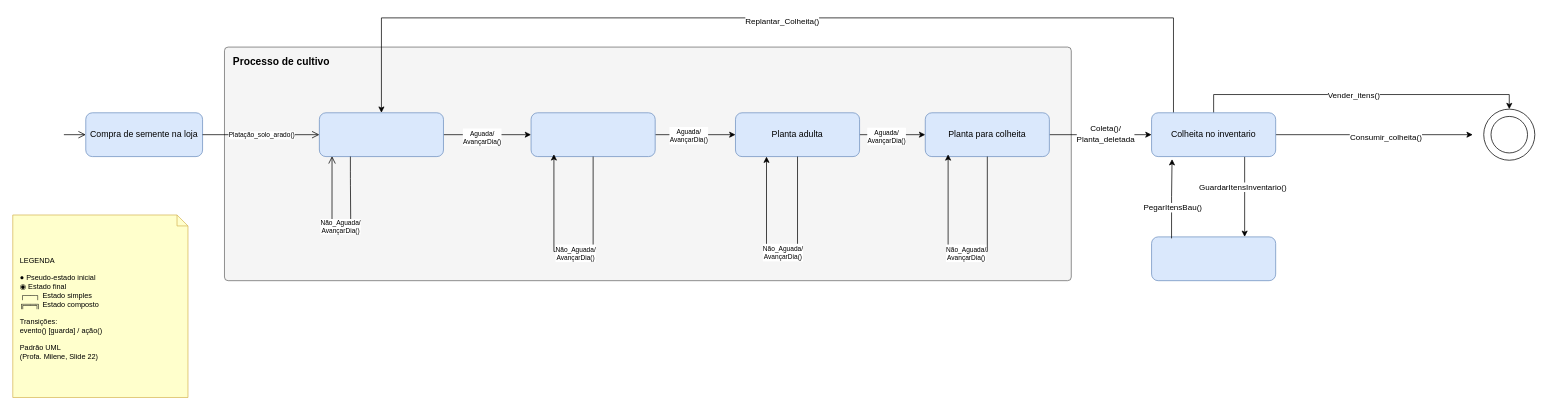
This 1548x410 diagram has some shape labels left out. The shapes that lost their labels are listed below. From the top down, each one's centre as x and y in pixels, then its label:
At point 381,134: "Semente no solo".
At point 592,134: "Pequeno Broto".
At point 1213,258: "Colheita no Bau".
